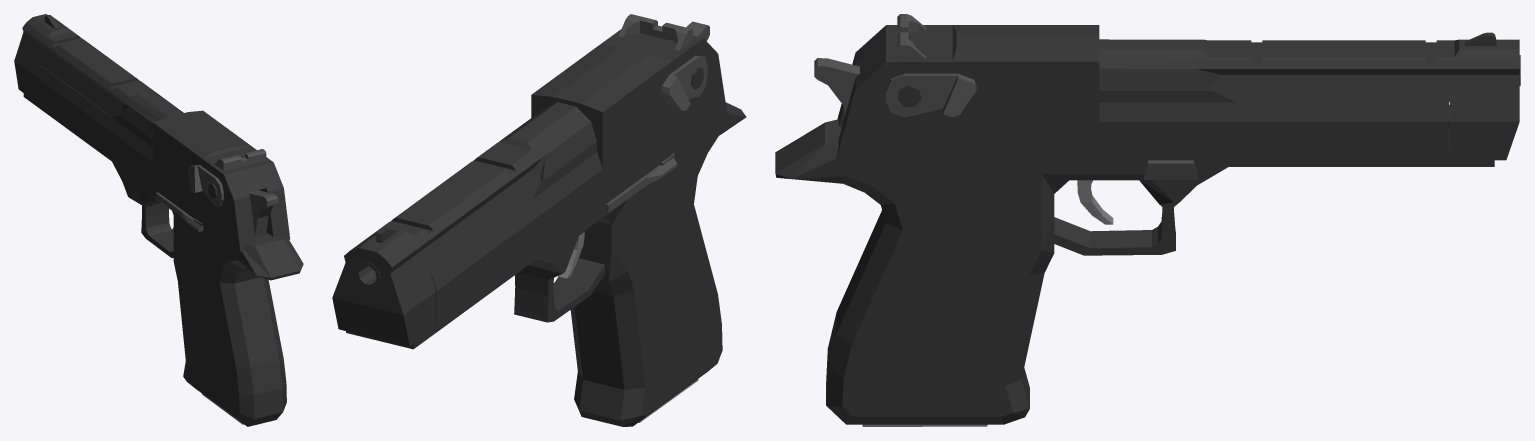
The model's file is Deagle.fbx.
The picture shows the model from 3 angles, left to right: view 1: azimuth 30°, elevation 25°; view 2: azimuth 150°, elevation 25°; view 3: azimuth 270°, elevation 25°; orthographic projection. The views are drawn at different scales.
Visible parts, largest first — view 1: Eagle, Slide; view 2: Eagle, Slide; view 3: Eagle, Slide, Trigger.
Boxes of the visible parts, x1,y1,x2,y2 form: Eagle: [14, 14, 303, 426]; Slide: [37, 66, 290, 251]; Eagle: [332, 21, 746, 426]; Slide: [431, 14, 727, 326]; Eagle: [775, 32, 1520, 424]; Slide: [836, 14, 1449, 160]; Trigger: [1077, 180, 1113, 224].
Size of the model in its own units: 31.27 by 110 by 192.
Materials: 1 (1 with a texture image).
